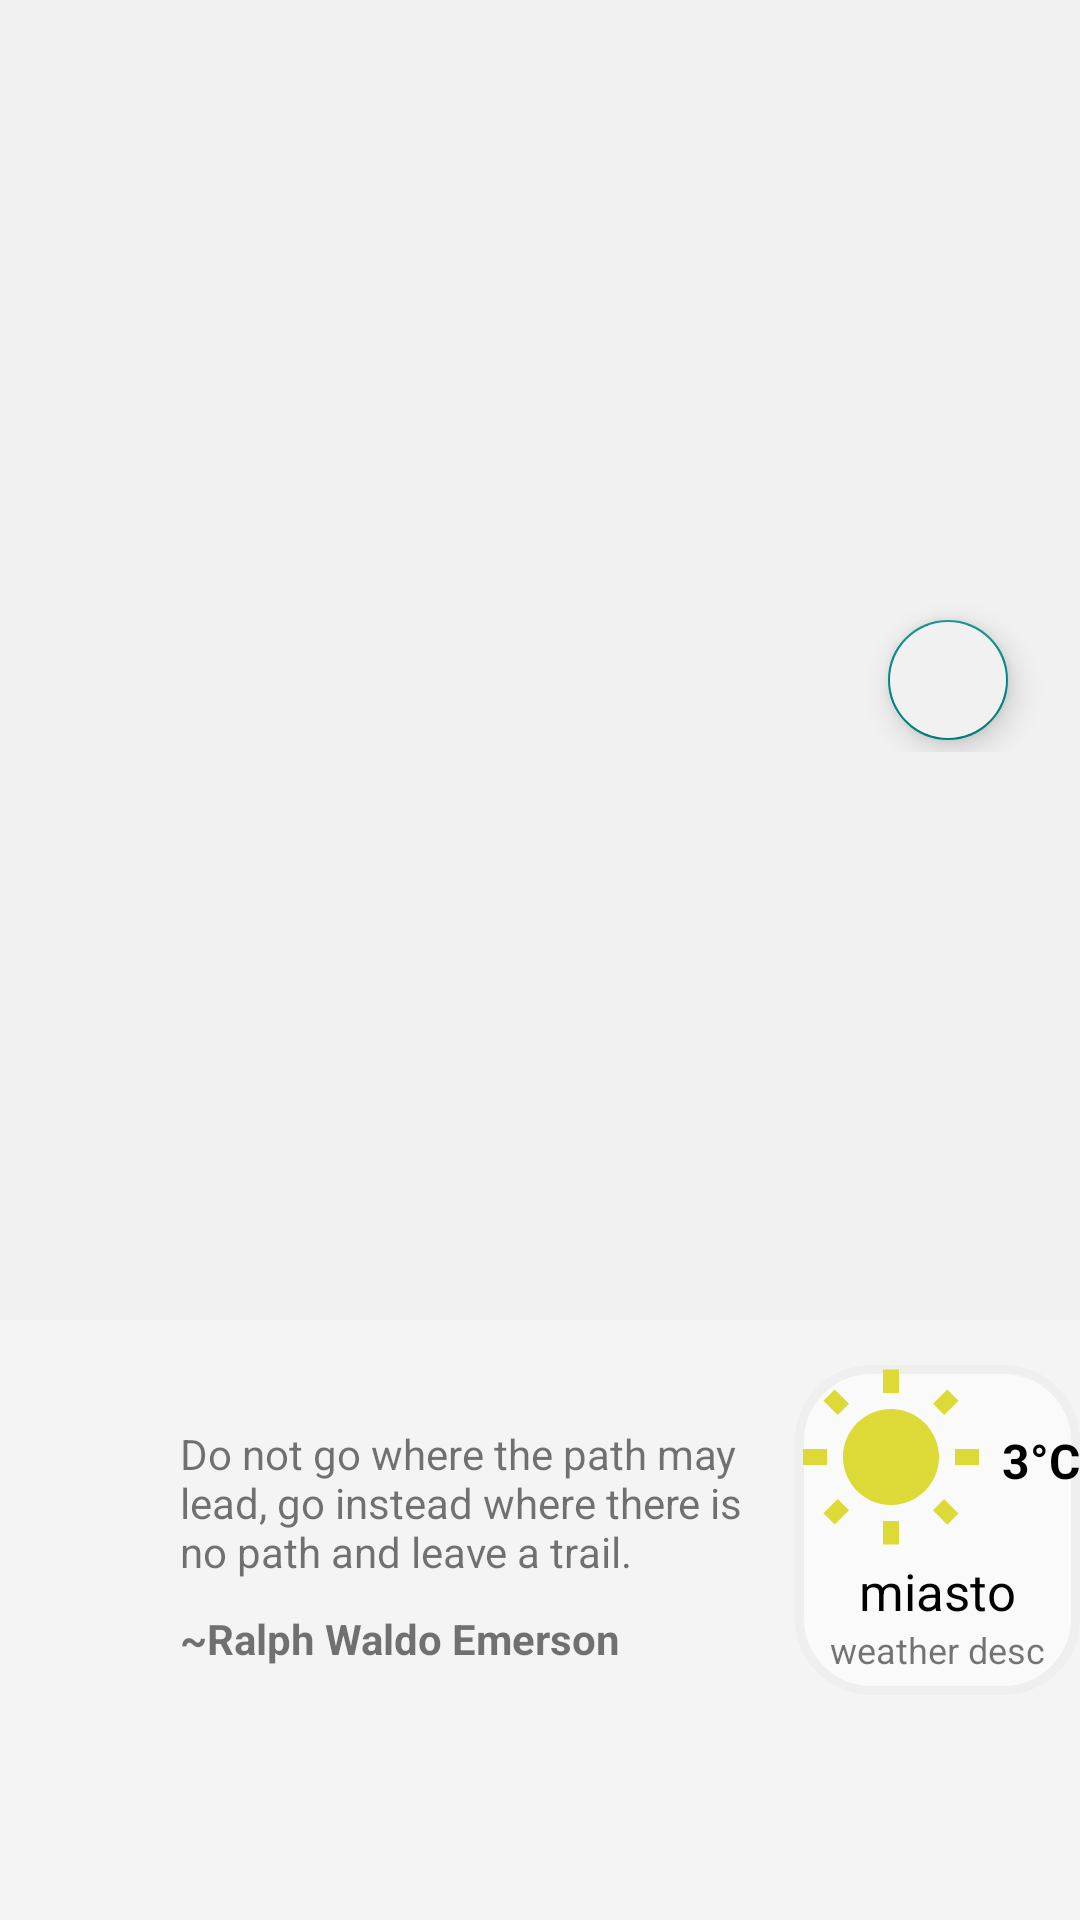

Icons on this 1080 × 1920 Android screen, each with its box as (x1, y1, x2, y2):
sunny: (803, 1369, 979, 1545)
